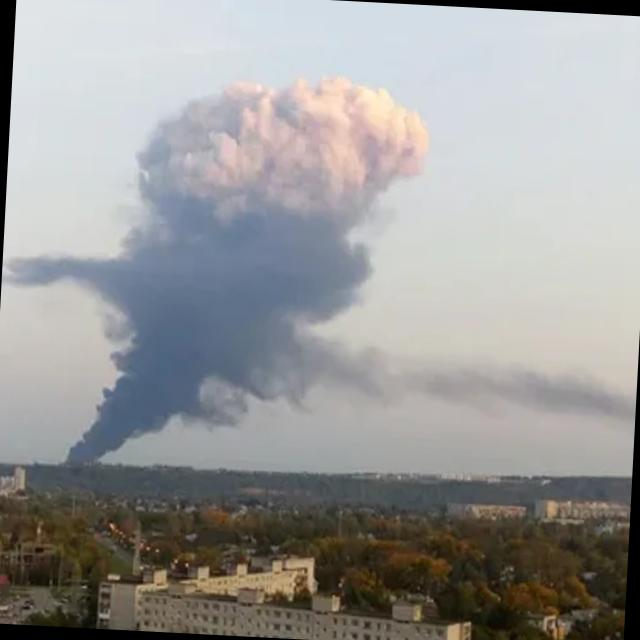Smoke: (98, 64, 434, 420)
